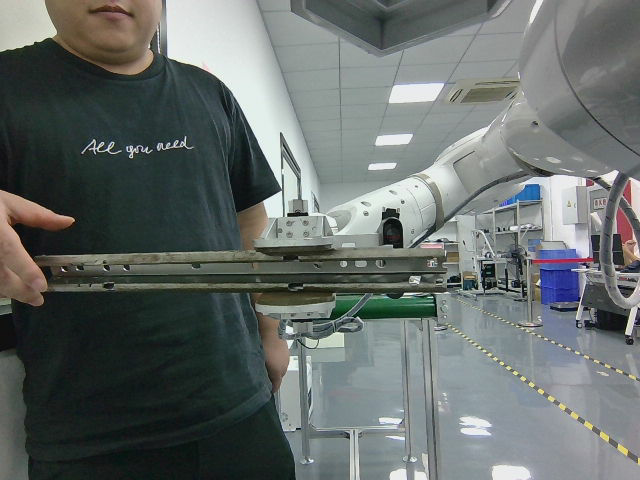left: (51, 246, 447, 300)
